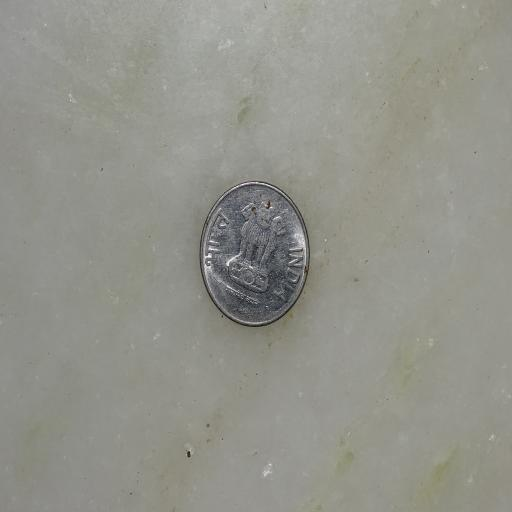rupee2: (194, 176, 313, 330)
